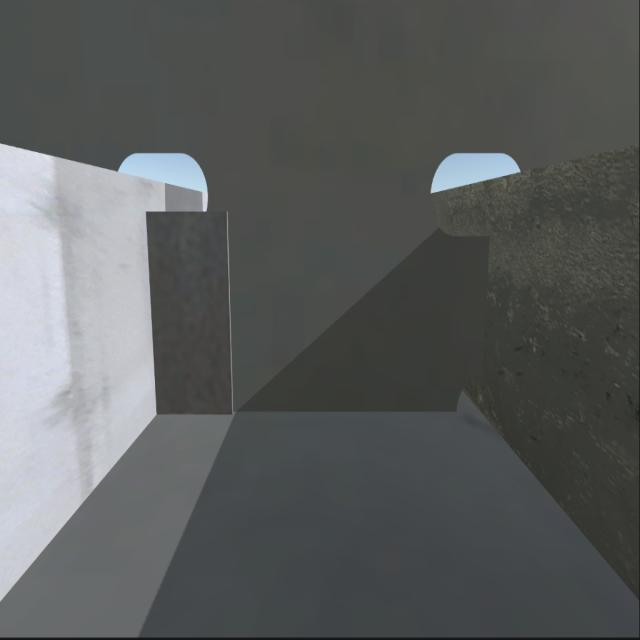fillet_hole: (457, 372, 490, 415)
fillet_yong_jeop_jang: (154, 412, 458, 417)
longi_yong_jeop_jang: (145, 209, 156, 419), (479, 244, 488, 366)
plate_CP01: (146, 208, 226, 408)
